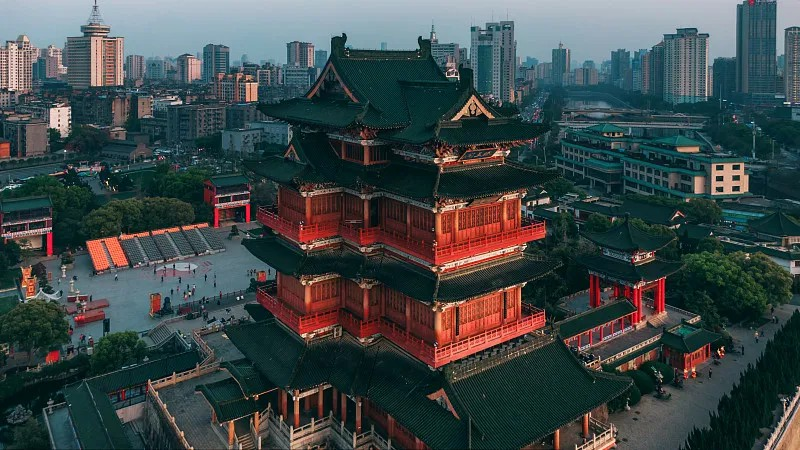Teng: (242, 33, 565, 370)
